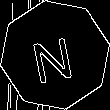N_N: (31, 26, 79, 84)
